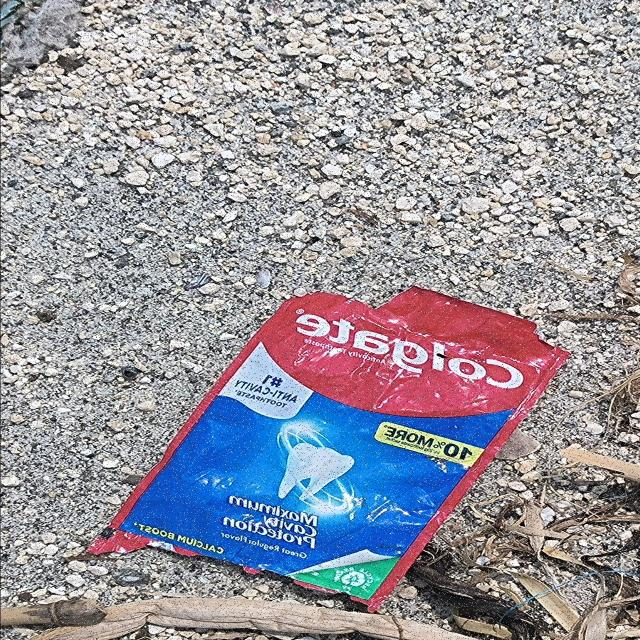plastic_waste: (82, 286, 572, 615)
